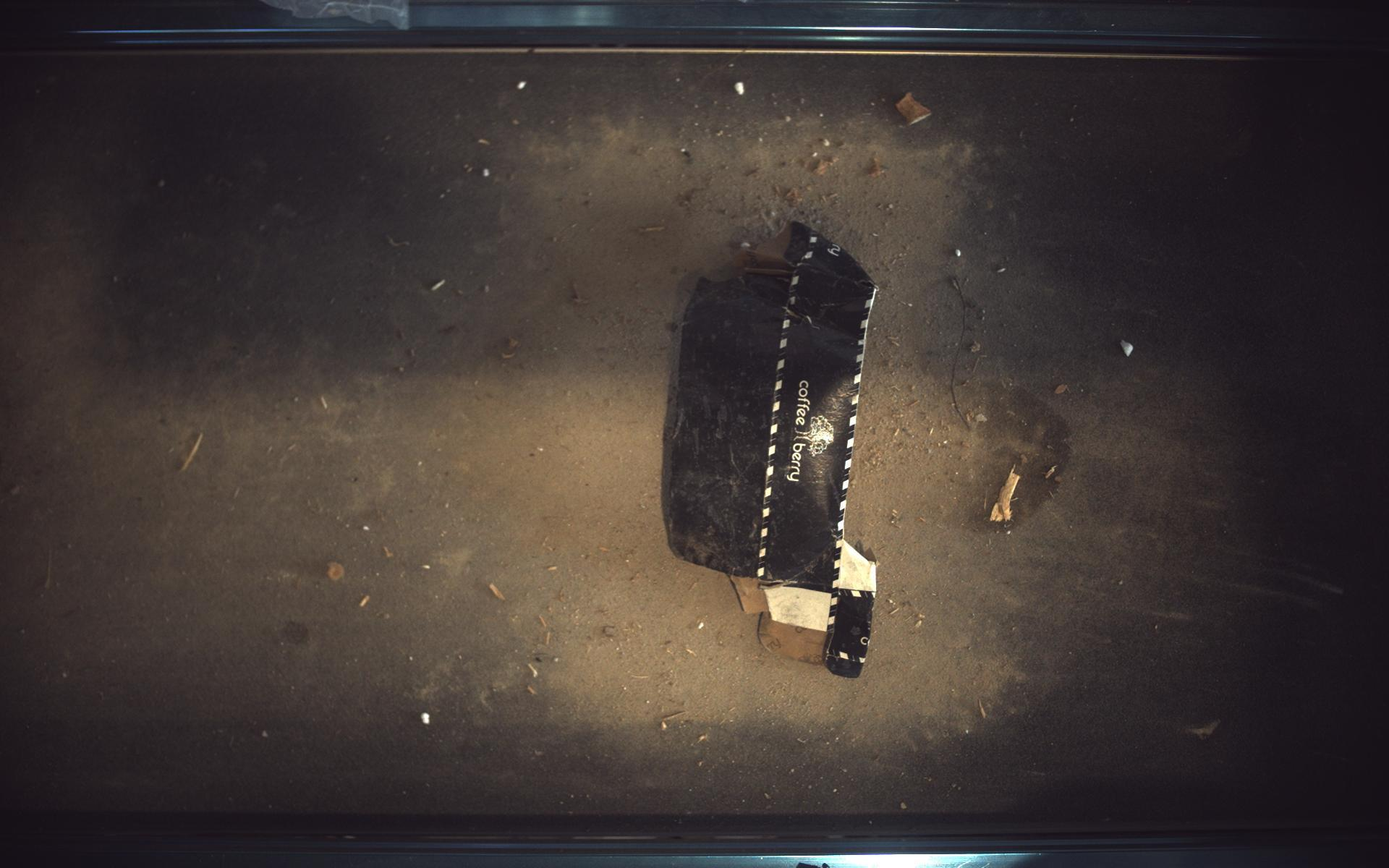general_w: (665, 221, 878, 678)
